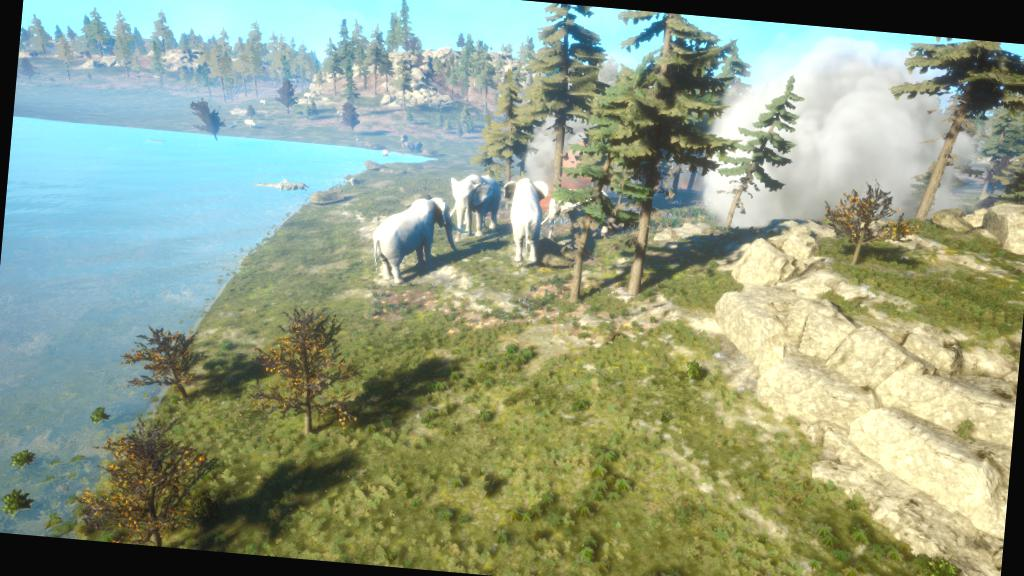crocodile: (254, 173, 319, 202)
elephant: (366, 186, 475, 297), (492, 176, 560, 274), (436, 166, 506, 242)
smoke: (700, 26, 974, 254)
